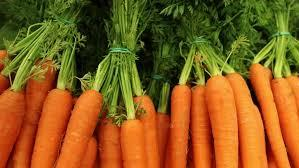Organic: (3, 1, 299, 168)
